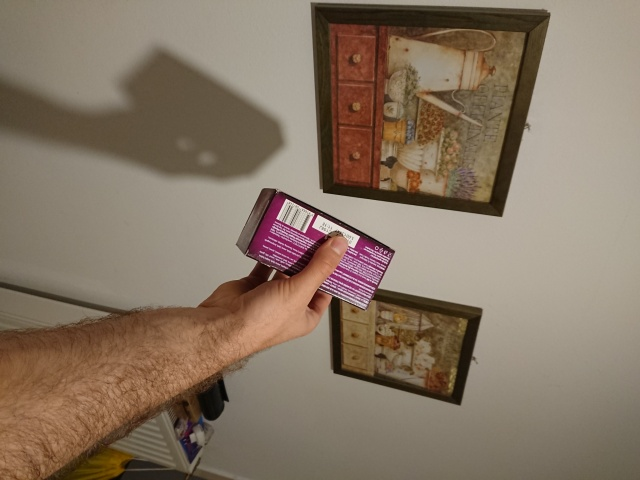Franck Black Currant Tea 60g: (233, 185, 397, 312)
